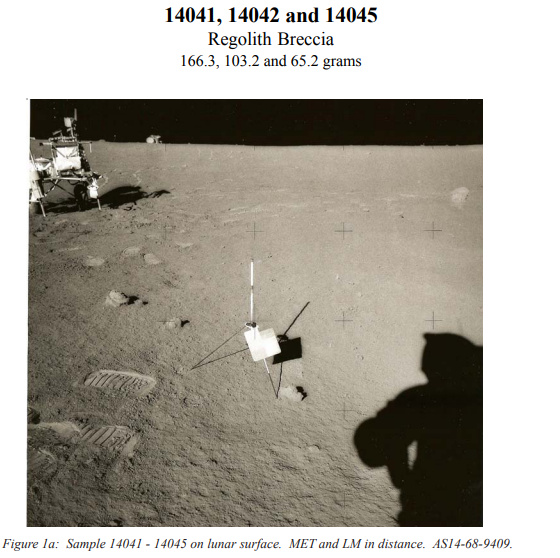Breccia: (105, 277, 211, 344)
